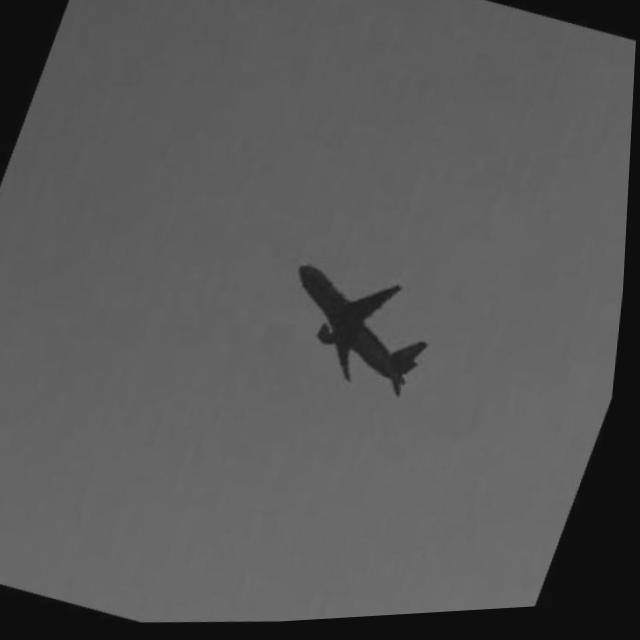aeroplane: (265, 255, 453, 412)
